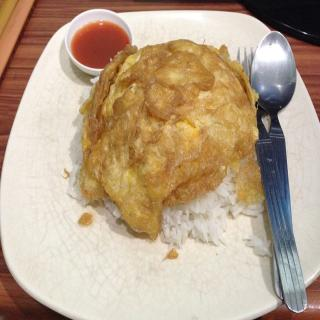carbs: (166, 180, 238, 242)
omelet_rice: (81, 40, 259, 243)
